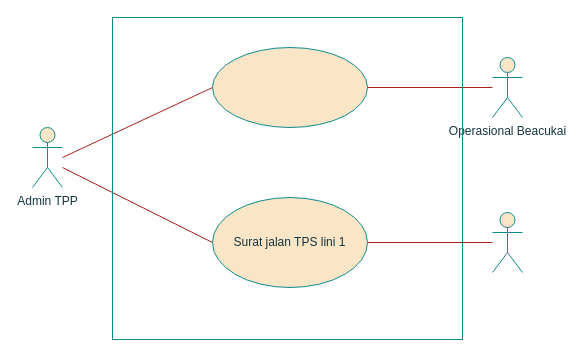
Image size: 583x357. Some labels were removed from this diagram. Here are the shapes that lost their labels. From the top down, the centre of each, then its label:
the point at 290,87: Data Pemindahan Lokasi Penumpukan (PLP)
the point at 507,242: Supir Truk
